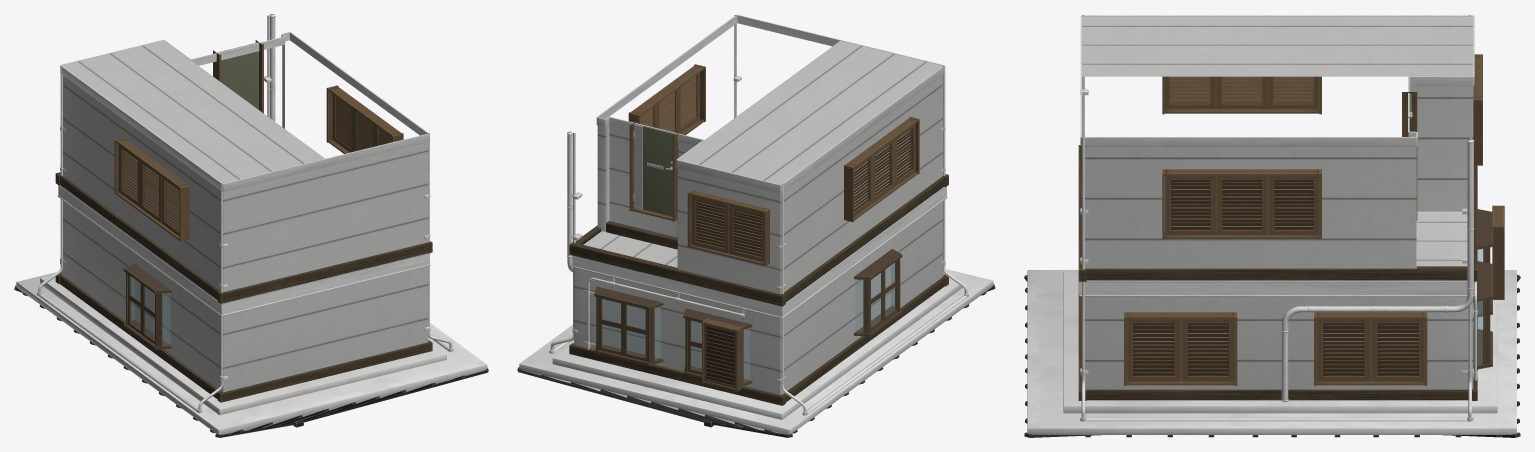
The model's file is anime-house-02.glb.
The picture shows the model from 3 angles, left to right: view 1: azimuth 30°, elevation 25°; view 2: azimuth 150°, elevation 25°; view 3: azimuth 270°, elevation 25°; orthographic projection. The views are drawn at different scales.
Visible parts, largest first — view 1: anime-house-02; view 2: anime-house-02; view 3: anime-house-02.
Part boxes in pixels (x1,y1,x2,y2): anime-house-02: (14, 14, 488, 437); anime-house-02: (517, 14, 995, 437); anime-house-02: (1024, 15, 1520, 437).
Size of the model in its own units: 7.8 by 7.97 by 10.15.
16 materials, 14 textured.
